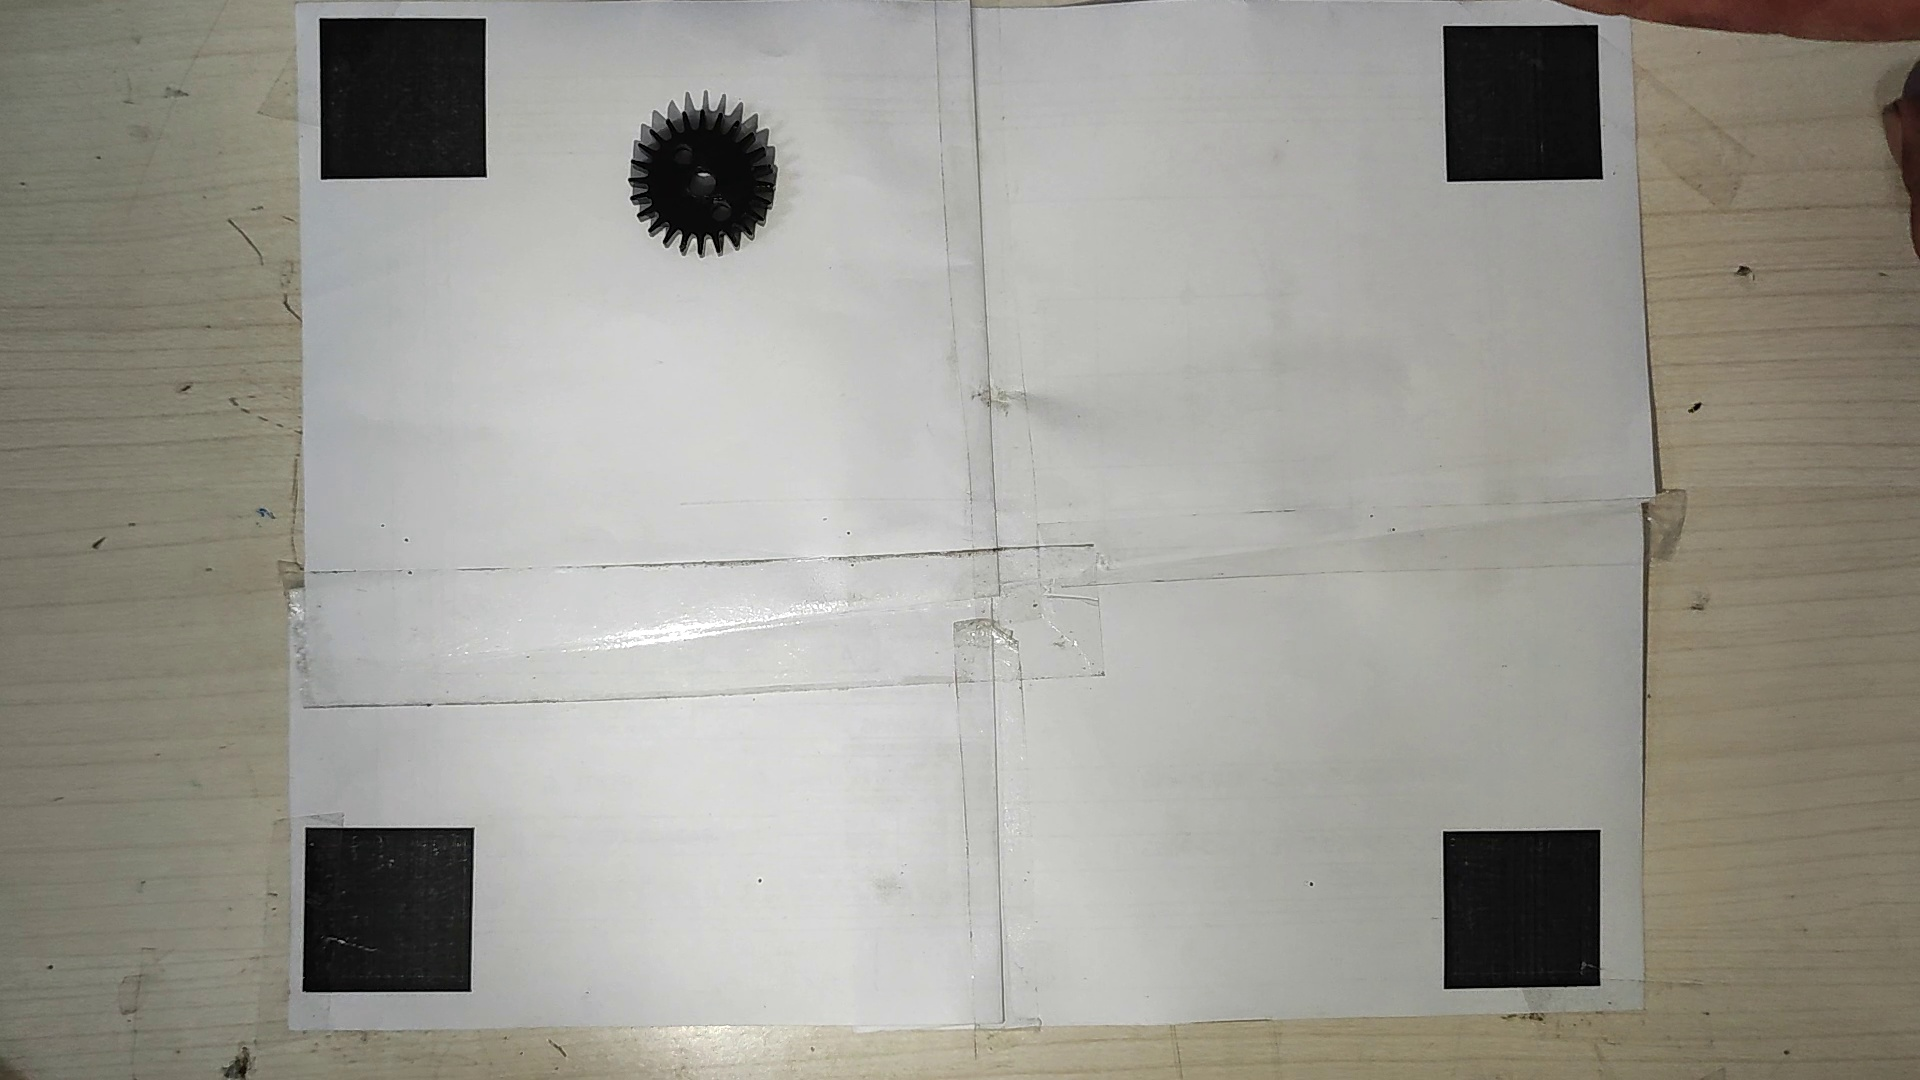Gear: (620, 92, 782, 260)
